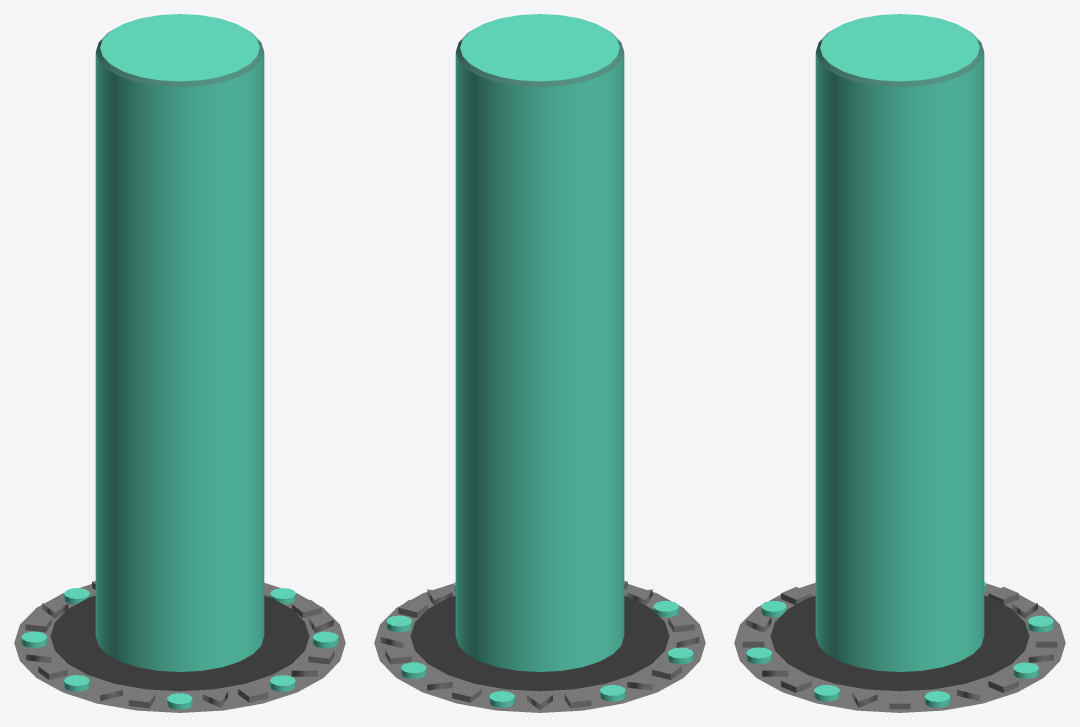
The picture shows the model from 3 angles, left to right: view 1: azimuth 30°, elevation 25°; view 2: azimuth 150°, elevation 25°; view 3: azimuth 270°, elevation 25°; orthographic projection.
Parts seen in each view (by area): view 1: tube_circle, PT_circle, plateau_circle, tube_circle001; view 2: tube_circle, PT_circle, plateau_circle, tube_circle001; view 3: tube_circle, PT_circle, plateau_circle, tube_circle001.
Part boxes in pixels (box(x1,y1,x2,y2)): tube_circle: box(95, 14, 264, 671); PT_circle: box(14, 581, 345, 712); plateau_circle: box(50, 595, 309, 691); tube_circle001: box(95, 611, 264, 671); tube_circle: box(455, 14, 624, 671); PT_circle: box(374, 581, 705, 712); plateau_circle: box(410, 595, 669, 691); tube_circle001: box(455, 611, 623, 671); tube_circle: box(815, 14, 984, 671); PT_circle: box(734, 581, 1065, 712); plateau_circle: box(770, 595, 1029, 691); tube_circle001: box(815, 611, 984, 671).
Bounding box in the file's own units: 30.13 × 30.13 × 59.68.
